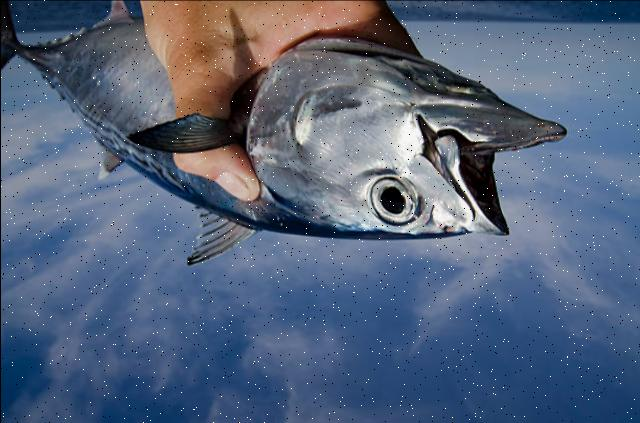Mulut: (409, 70, 586, 260)
Sirip Anal: (76, 0, 138, 38)
Sirip Dada: (118, 94, 260, 170)
Sirip Ekor: (0, 0, 32, 108)
Sirip Punggung: (68, 126, 274, 278)
